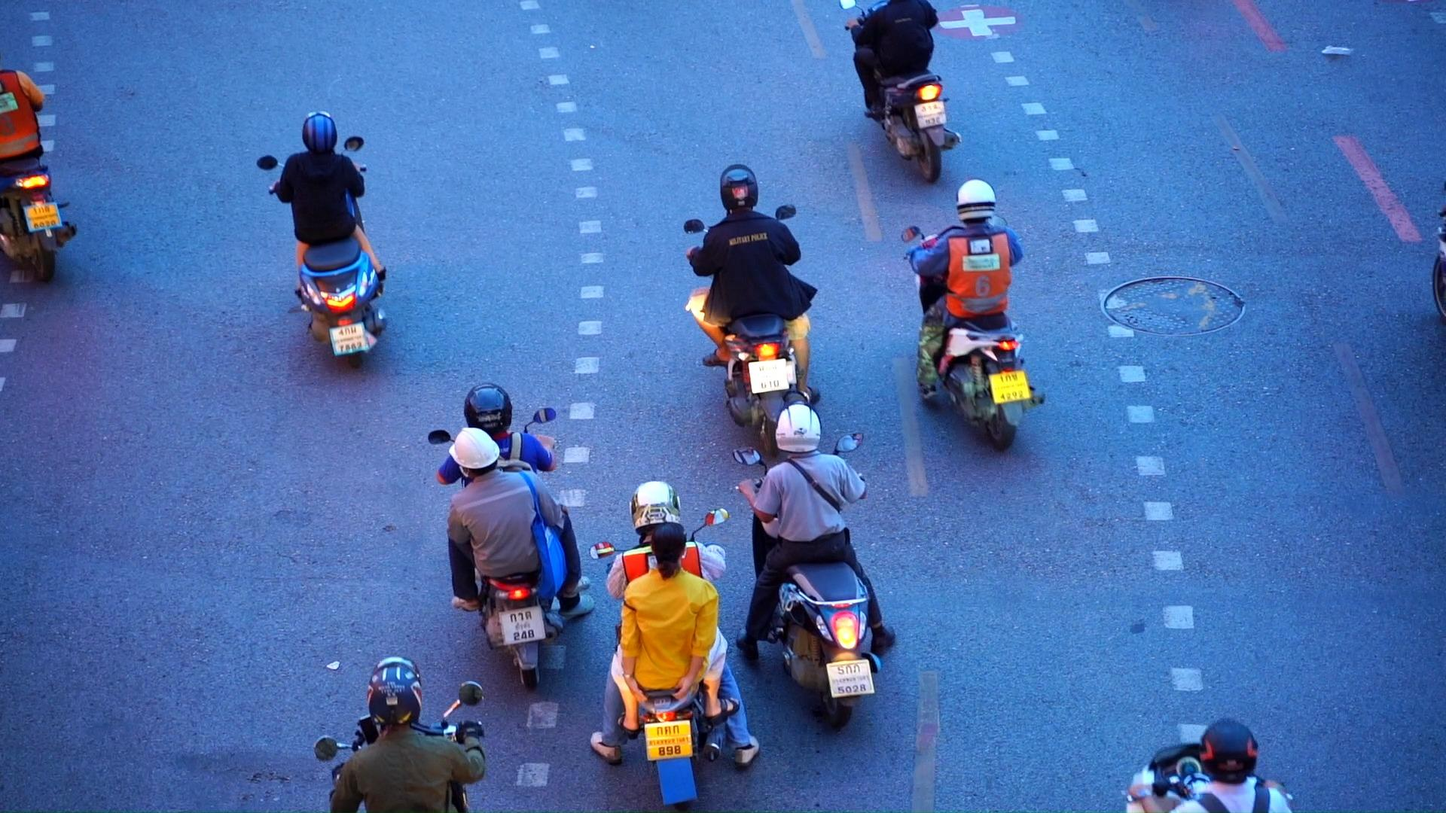driver: (591, 480, 760, 813), (730, 400, 895, 730), (428, 383, 594, 690), (684, 164, 822, 457), (902, 179, 1046, 451), (257, 111, 391, 375), (314, 656, 488, 813), (840, 0, 962, 184), (1, 69, 78, 283), (1126, 717, 1295, 813)
helmet: (367, 656, 423, 734), (1199, 717, 1259, 775), (629, 480, 681, 536), (449, 427, 500, 480), (776, 400, 822, 454), (464, 384, 513, 434), (720, 164, 758, 217), (956, 178, 996, 222), (302, 110, 337, 155)
no-helmet: (651, 521, 687, 581)
